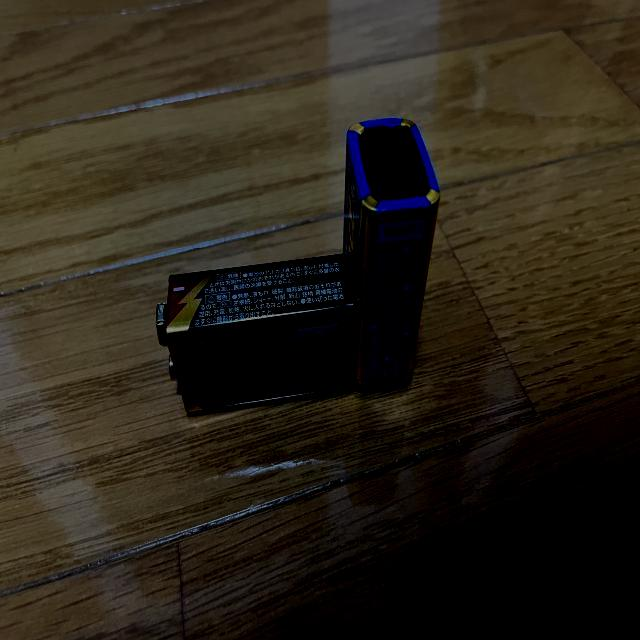9V: (154, 251, 358, 416), (343, 117, 441, 389)
